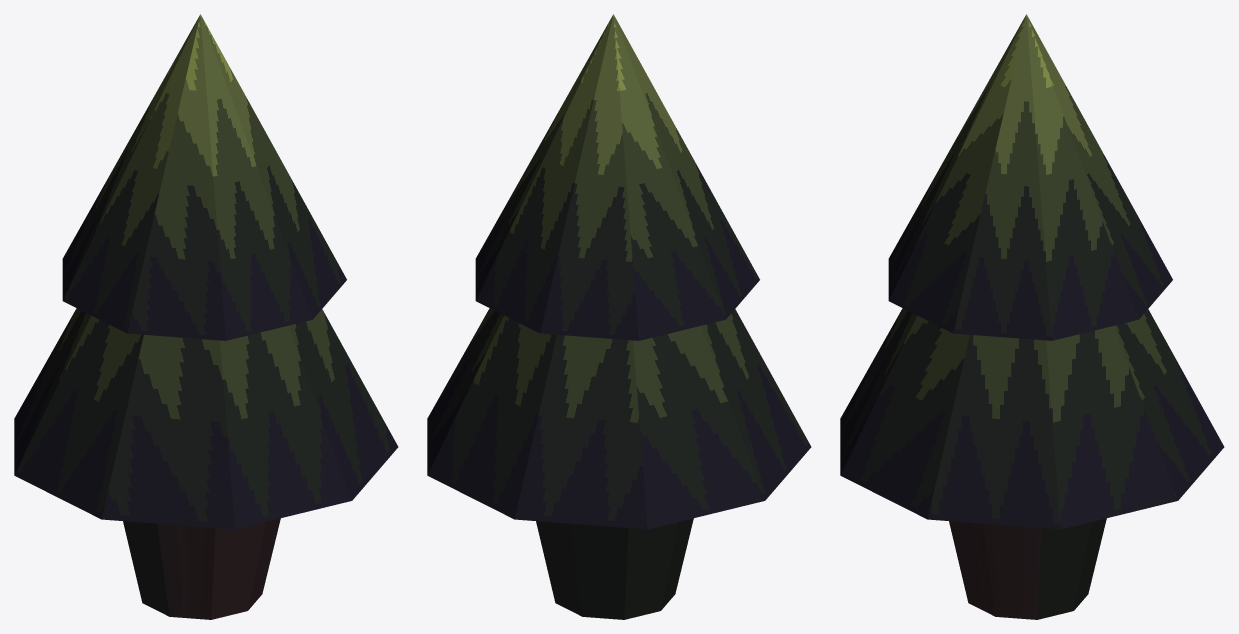
File: prop_tree 2.obj
The picture shows the model from 3 angles, left to right: view 1: azimuth 30°, elevation 25°; view 2: azimuth 150°, elevation 25°; view 3: azimuth 270°, elevation 25°; orthographic projection.
Visible parts, largest first — view 1: Tree_2; view 2: Tree_2; view 3: Tree_2.
Boxes of the visible parts, x1,y1,x2,y2 form: Tree_2: (14,14,398,619); Tree_2: (427,14,811,619); Tree_2: (840,14,1224,619).
Size of the model in its own units: 2.66 by 4.36 by 2.62.
